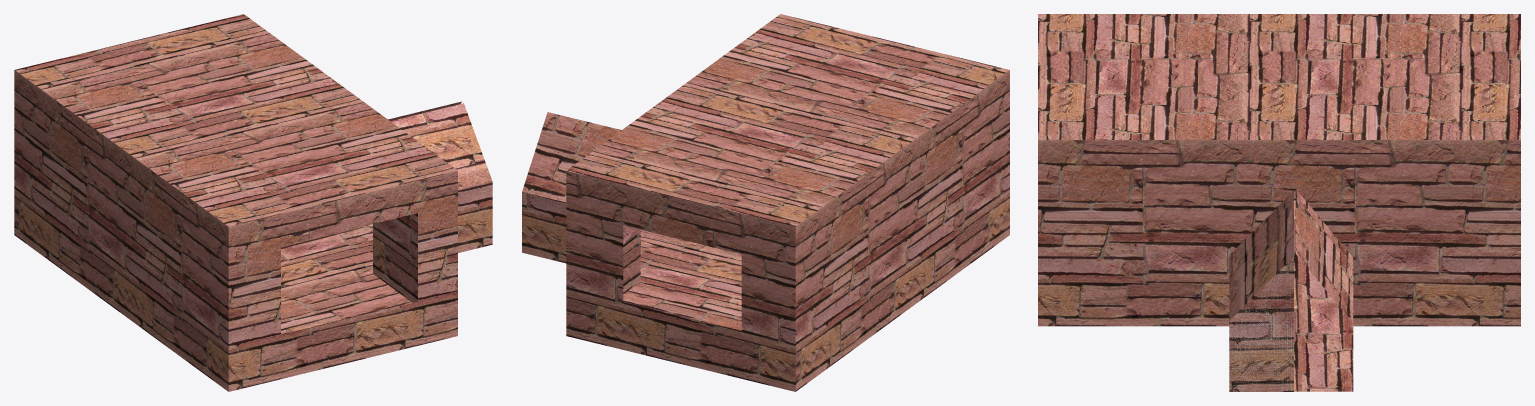
3 views of the same model, side by side, from view 1: azimuth 30°, elevation 25°; view 2: azimuth 150°, elevation 25°; view 3: azimuth 270°, elevation 25° (orthographic). The views are drawn at different scales.
Visible parts, largest first — view 1: SketchUp (×3); view 2: SketchUp; view 3: SketchUp (×2).
Boxes of the visible parts, x1,y1,x2,y2 form: SketchUp (×3): (14, 14, 492, 391); SketchUp: (522, 14, 1009, 391); SketchUp (×2): (1038, 14, 1520, 391).
Bounding box in the file's own units: 862 × 917 × 390.
2 materials, 1 textured.
